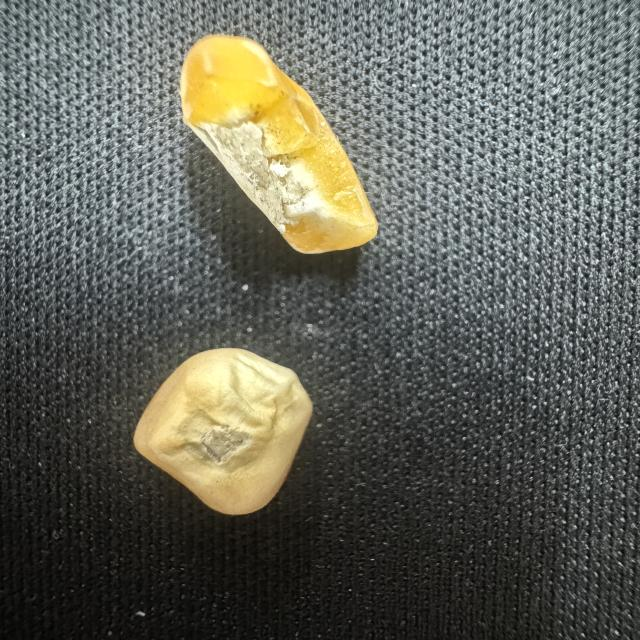Bad-Seed: (170, 26, 384, 261), (125, 341, 322, 524)
